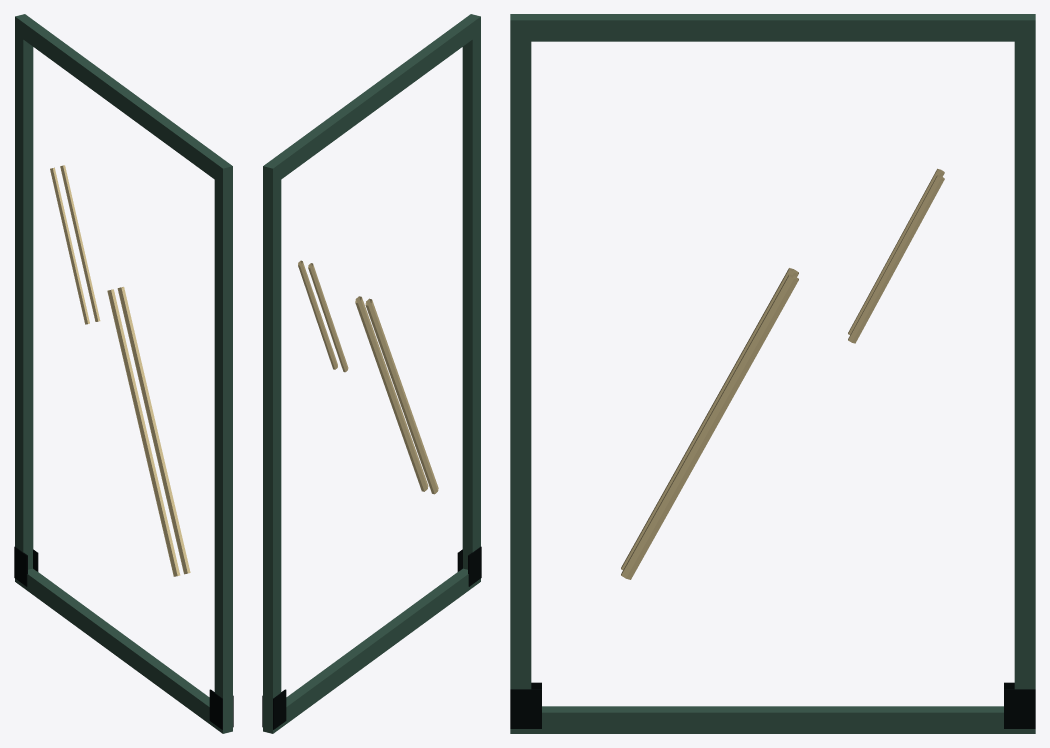
The model's file is panel_core_mall_glass.fbx.
The picture shows the model from 3 angles, left to right: view 1: azimuth 30°, elevation 25°; view 2: azimuth 150°, elevation 25°; view 3: azimuth 270°, elevation 25°; orthographic projection. The views are drawn at different scales.
Parts seen in each view (by area): view 1: Part_0; view 2: Part_0; view 3: Part_0.
Part boxes in pixels (bbox=[...]): Part_0: bbox=[14, 14, 233, 733]; Part_0: bbox=[262, 14, 481, 733]; Part_0: bbox=[510, 14, 1035, 733].
Bounding box in the file's own units: 0.14 × 4.8 × 3.2.
